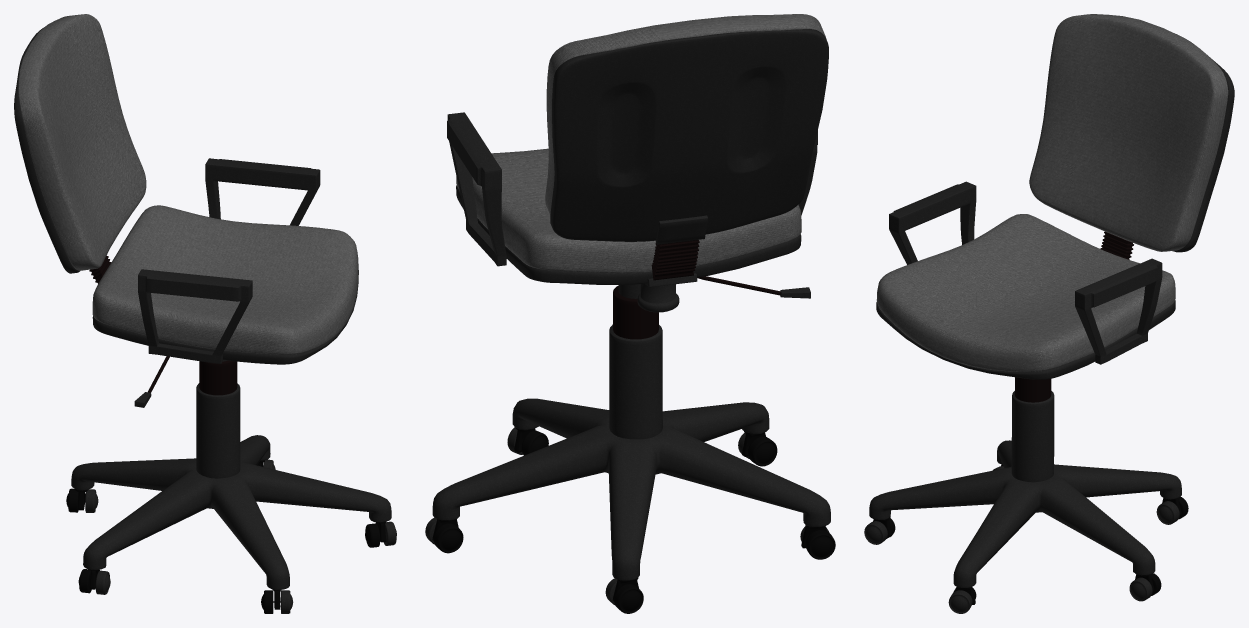
Rendered from Chair1.fbx.
3 renders of one model, left to right at view 1: azimuth 30°, elevation 25°; view 2: azimuth 150°, elevation 25°; view 3: azimuth 270°, elevation 25°, orthographic. The views are drawn at different scales.
Visible parts, largest first — view 1: Офисеый стул002; view 2: Офисеый стул002; view 3: Офисеый стул002.
Boxes of the visible parts, x1=… form: Офисеый стул002: x1=14, y1=14, x2=396, y2=613; Офисеый стул002: x1=425, y1=14, x2=835, y2=613; Офисеый стул002: x1=864, y1=14, x2=1234, y2=613.
Bounding box in the file's own units: 74.57 × 108 × 77.25.
Materials: 4 (2 with a texture image).
